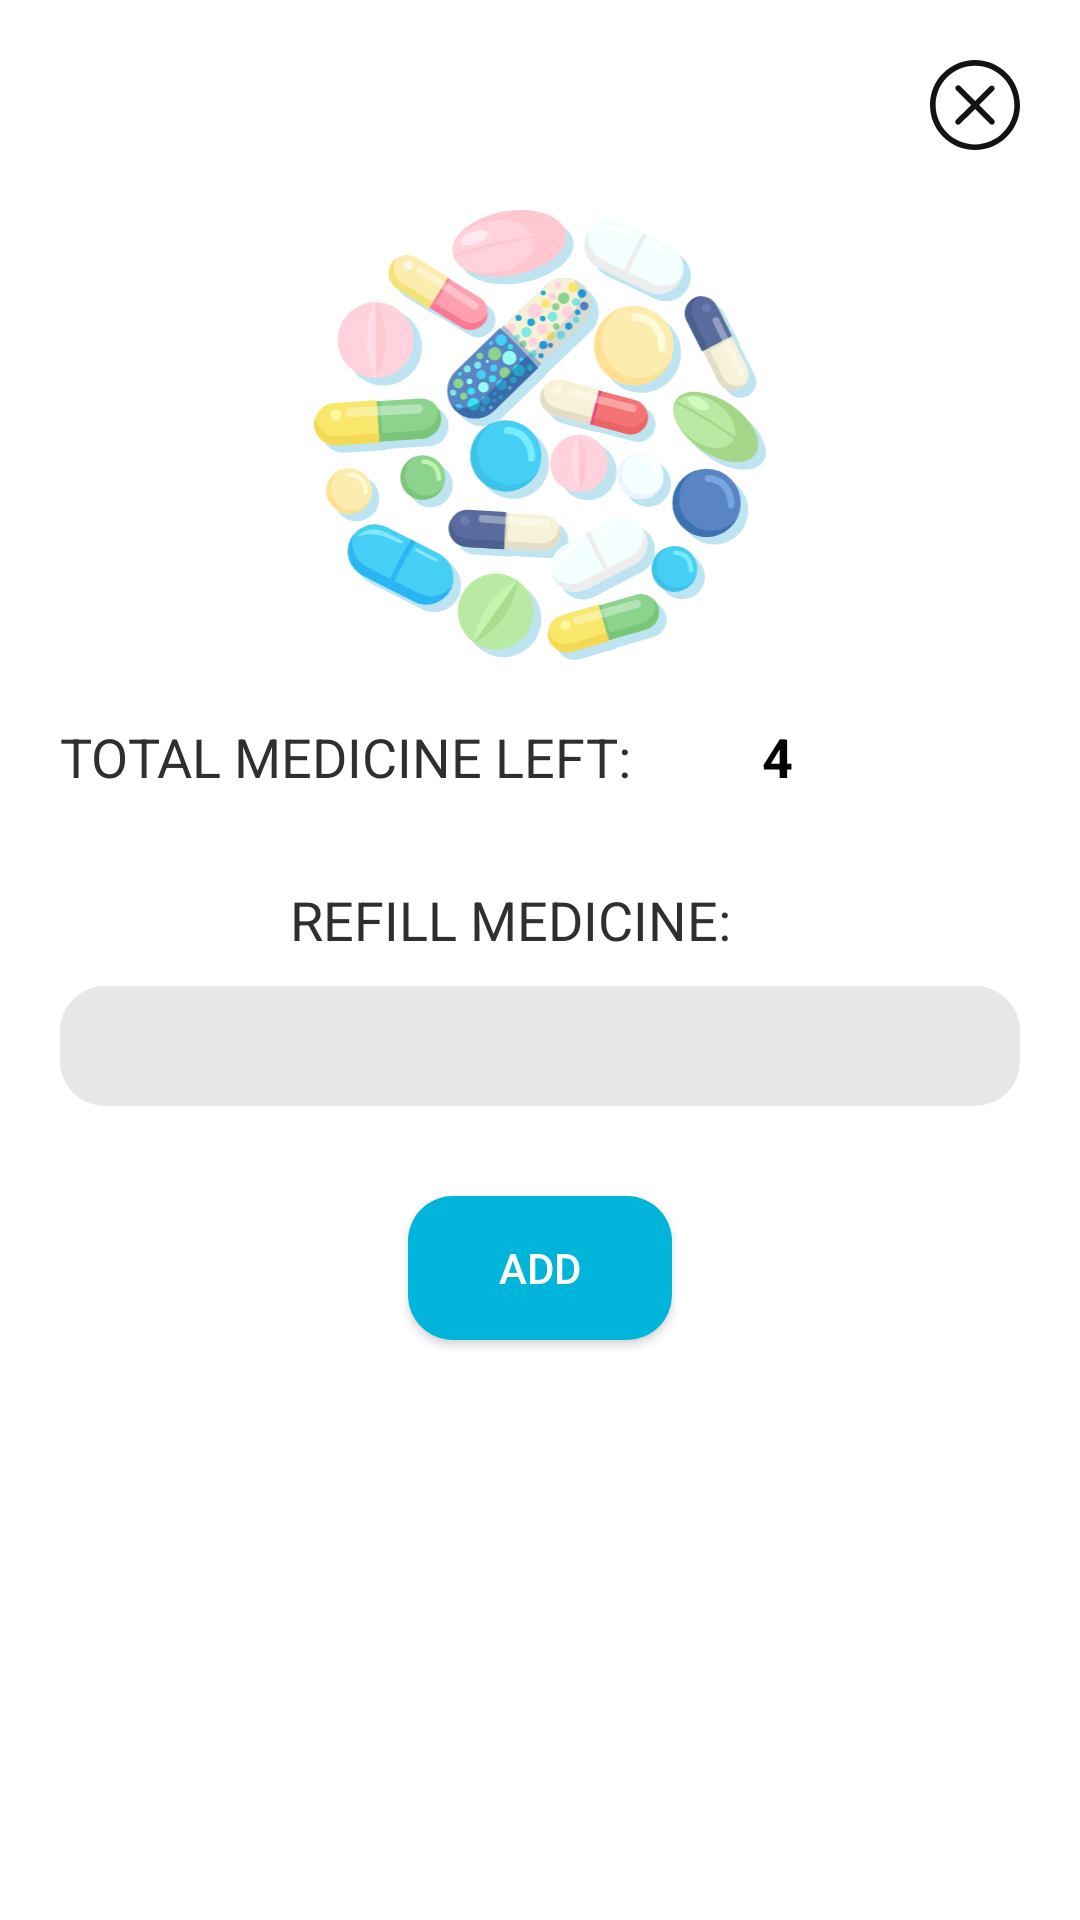

Where icons sit on this 1080*1920 app screen, as (x1, y1, x2, y2):
close: (930, 60, 1020, 150)
